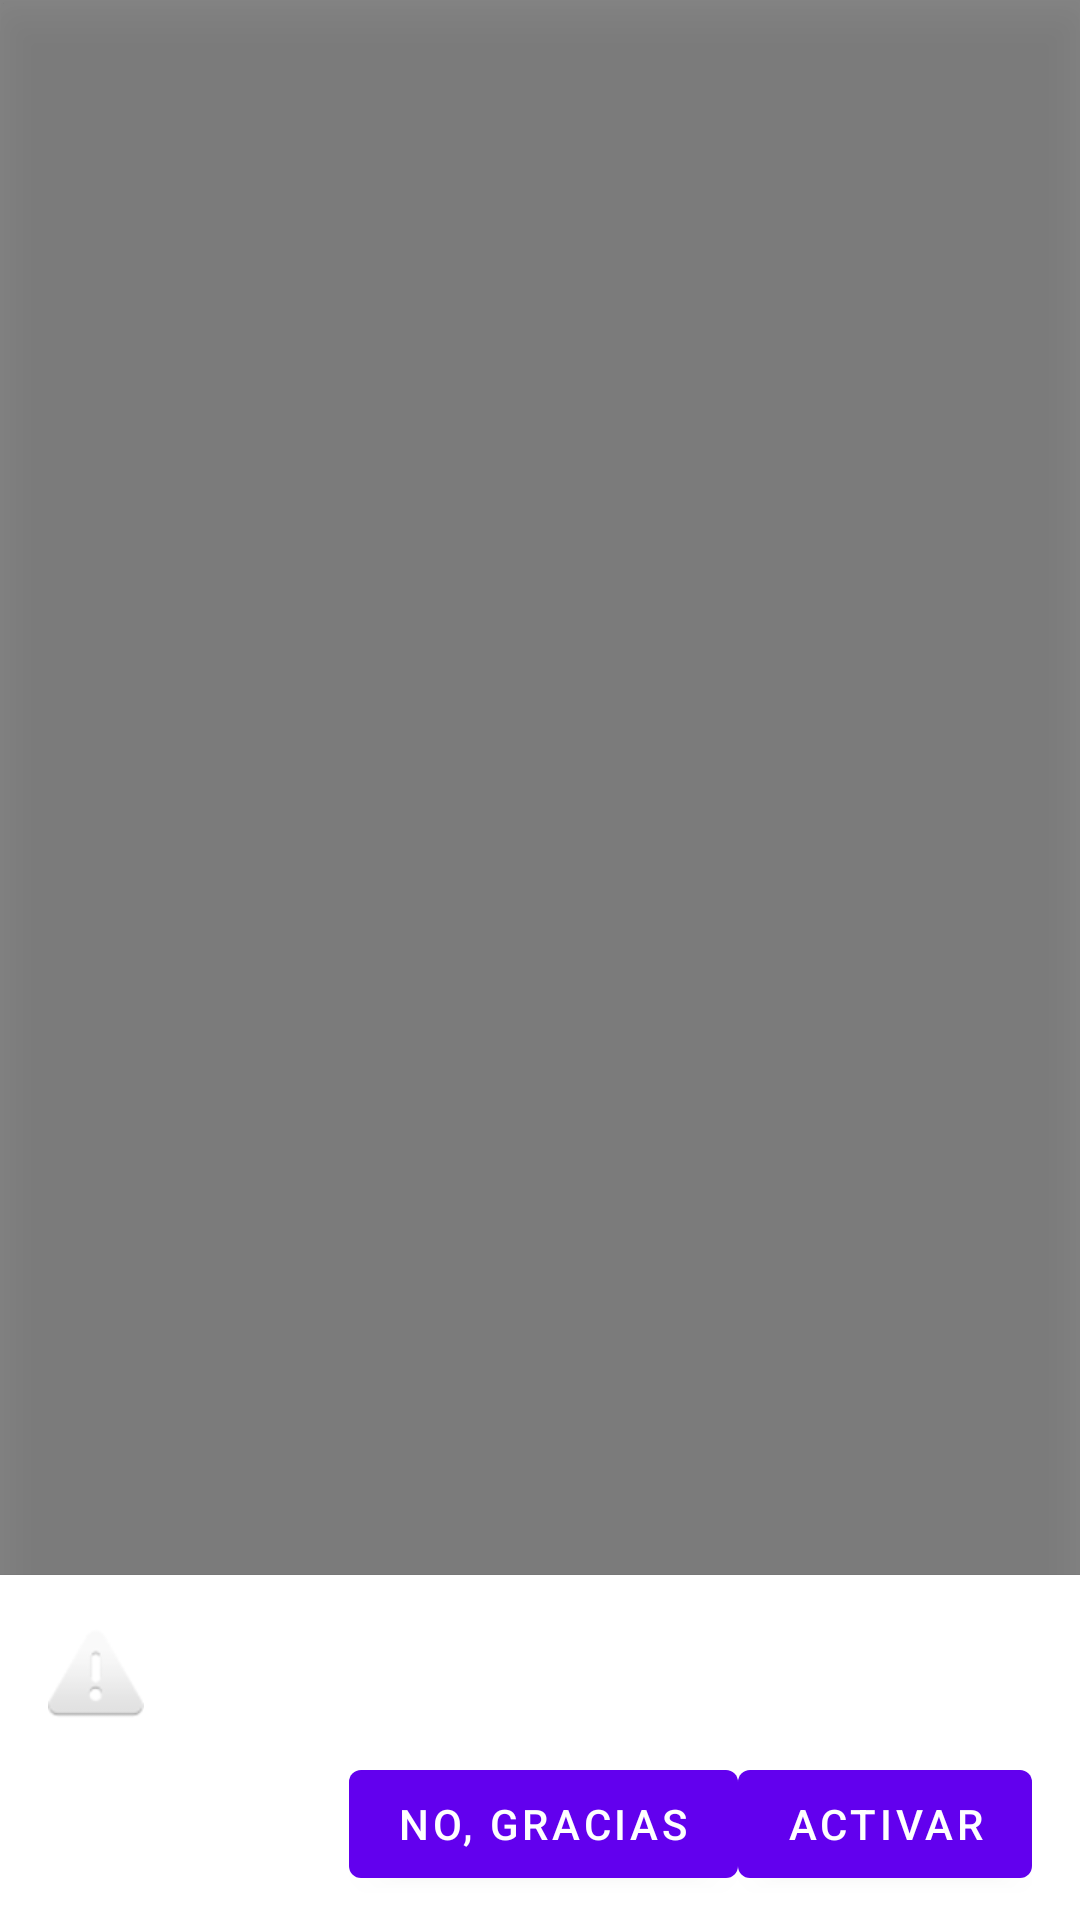

Named icons in this screenshot (1080 × 1920) and their centers, (x=x, y=y):
alert: (x=96, y=1683)
